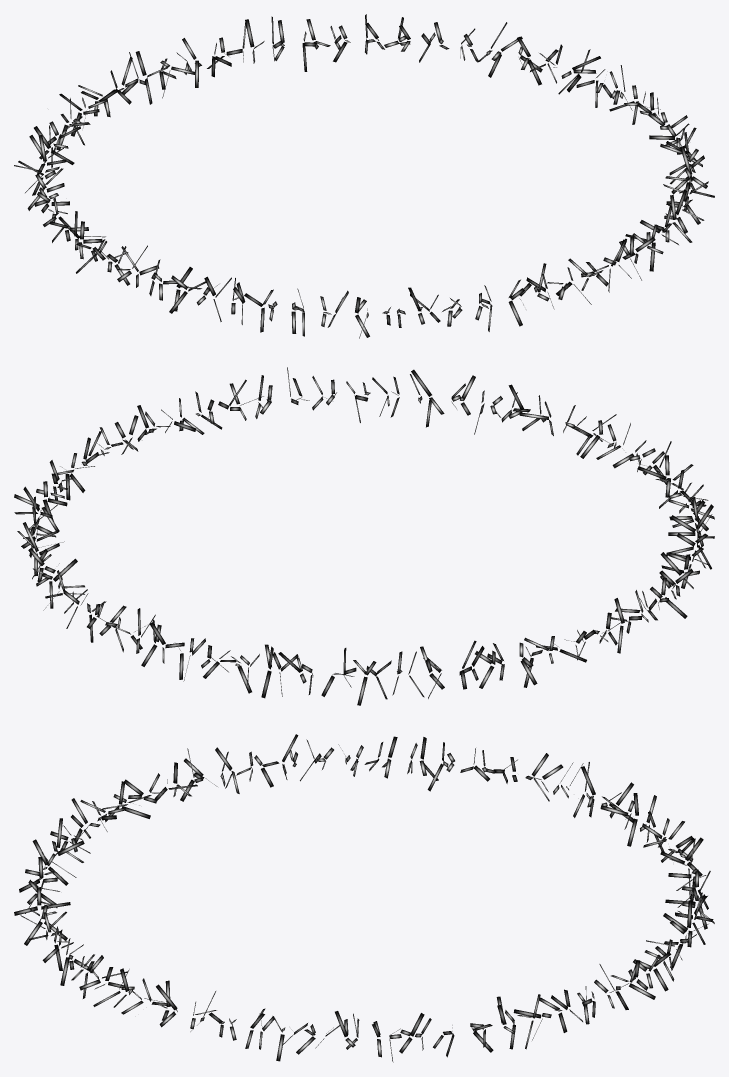
The model's file is vfx_kurp_1193.dae.
3 renders of one model, top to bottom at view 1: azimuth 30°, elevation 25°; view 2: azimuth 150°, elevation 25°; view 3: azimuth 270°, elevation 25°, orthographic. The views are drawn at different scales.
Visible parts, largest first — view 1: vfx_kurp_1193; view 2: vfx_kurp_1193; view 3: vfx_kurp_1193.
Boxes of the visible parts, box(x1,y1,x2,y2) form: vfx_kurp_1193: box(14, 14, 714, 338); vfx_kurp_1193: box(14, 367, 714, 705); vfx_kurp_1193: box(14, 734, 714, 1062).
Bounding box in the file's own units: 10.74 × 10.63 × 0.991.
1 material, 1 textured.
